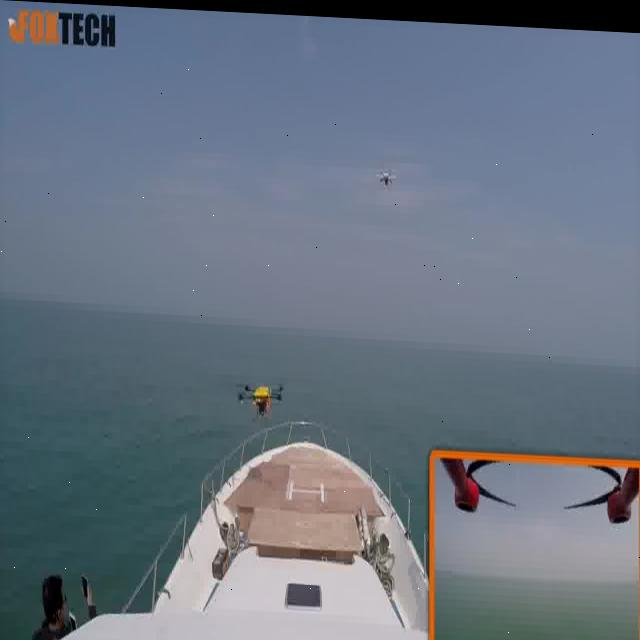drone: (240, 363, 290, 417), (374, 134, 402, 195)
